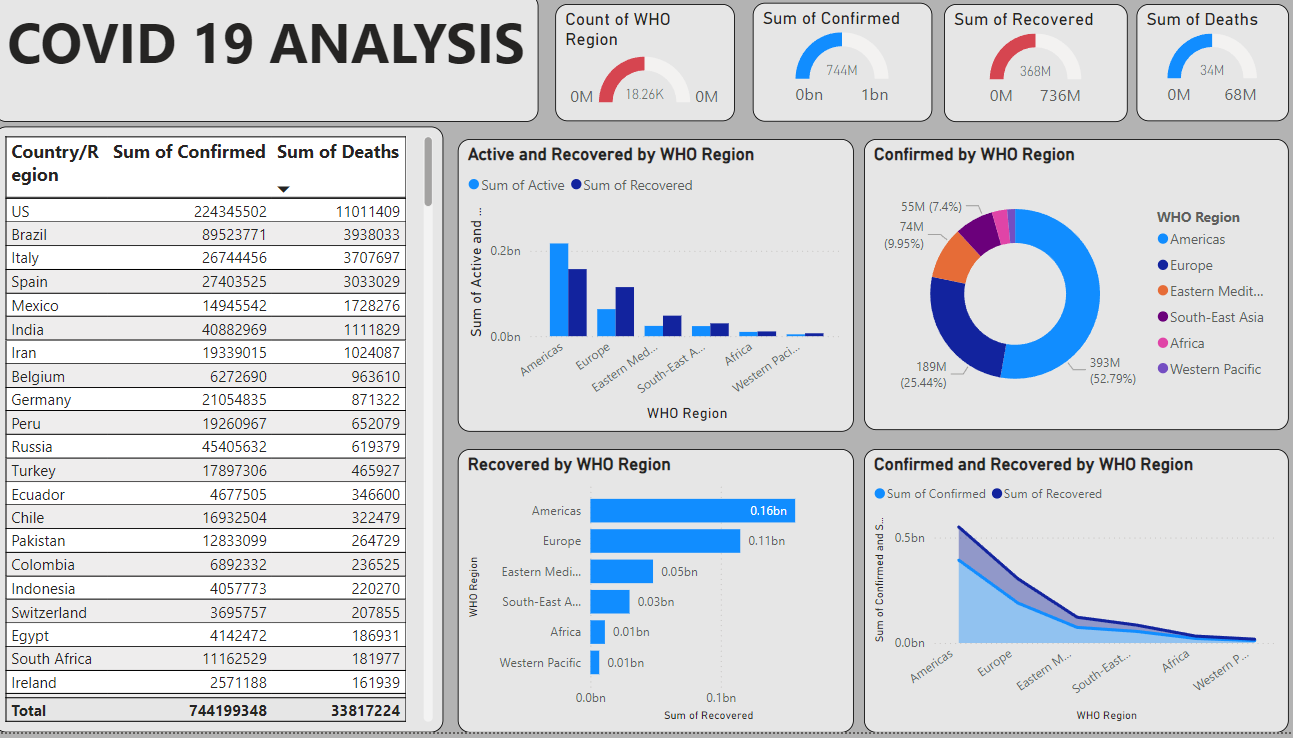

The dashboard page shown, as its layout file describes it:
{"tool":"powerbi","page":{"name":"Page 1","canvas":[1280,720],"ordinal":0},"visuals":[{"type":"textbox","box":[10.3,0,530.9,125],"z":0},{"type":"tableEx","fields":{"Values":["covid_19_clean_complete.Country/Region","Sum(covid_19_clean_complete.Confirmed)","Sum(covid_19_clean_complete.Deaths)"]},"box":[10.3,129.4,438.2,591.2],"z":1},{"type":"gauge","fields":{"Y":["CountNonNull(covid_19_clean_complete.WHO Region)"]},"box":[557.4,10.3,175,114.7],"z":2},{"type":"gauge","fields":{"Y":["Sum(covid_19_clean_complete.Confirmed)"]},"box":[750,8.8,175,116.2],"z":3},{"type":"gauge","fields":{"Y":["Sum(covid_19_clean_complete.Recovered)"]},"box":[937.1,10.3,179.4,115.5],"z":4},{"type":"gauge","fields":{"Y":["Sum(covid_19_clean_complete.Deaths)"]},"box":[1124.7,10.3,148.5,114.4],"z":5},{"type":"clusteredColumnChart","title":" Active and Recovered by WHO Region","fields":{"Y":["Sum(covid_19_clean_complete.Active)","Sum(covid_19_clean_complete.Recovered)"],"Category":["covid_19_clean_complete.WHO Region"]},"box":[461.8,141.2,386.8,285.3],"z":6},{"type":"donutChart","title":" Confirmed by WHO Region","fields":{"Category":["covid_19_clean_complete.WHO Region"],"Y":["Sum(covid_19_clean_complete.Confirmed)"]},"box":[858.8,141.2,414.7,283.8],"z":7},{"type":"clusteredBarChart","title":" Recovered by WHO Region","fields":{"Category":["covid_19_clean_complete.WHO Region"],"Y":["Sum(covid_19_clean_complete.Recovered)"]},"box":[461.8,444.1,386.8,276.5],"z":8},{"type":"stackedAreaChart","title":" Confirmed and  Recovered by WHO Region","fields":{"Category":["covid_19_clean_complete.WHO Region"],"Y":["Sum(covid_19_clean_complete.Confirmed)","Sum(covid_19_clean_complete.Recovered)"]},"box":[858.8,444.1,414.7,276.5],"z":9}]}

Visuals, with their boxes in screenshot pixels (x1, y1, x2, y2), scaled from the page's 1280x720 canvas onto the 1293x738 screenshot:
textbox: detection(10, 0, 547, 128)
tableEx - covid_19_clean_complete.Country/Region x Sum(covid_19_clean_complete.Confirmed): detection(10, 133, 453, 737)
gauge - CountNonNull(covid_19_clean_complete.WHO Region): detection(563, 11, 740, 128)
gauge - Sum(covid_19_clean_complete.Confirmed): detection(758, 9, 934, 128)
gauge - Sum(covid_19_clean_complete.Recovered): detection(947, 11, 1128, 129)
gauge - Sum(covid_19_clean_complete.Deaths): detection(1136, 11, 1286, 128)
" Active and Recovered by WHO Region" clusteredColumnChart: detection(466, 145, 857, 437)
" Confirmed by WHO Region" donutChart: detection(868, 145, 1286, 436)
" Recovered by WHO Region" clusteredBarChart: detection(466, 455, 857, 737)
" Confirmed and  Recovered by WHO Region" stackedAreaChart: detection(868, 455, 1286, 737)
